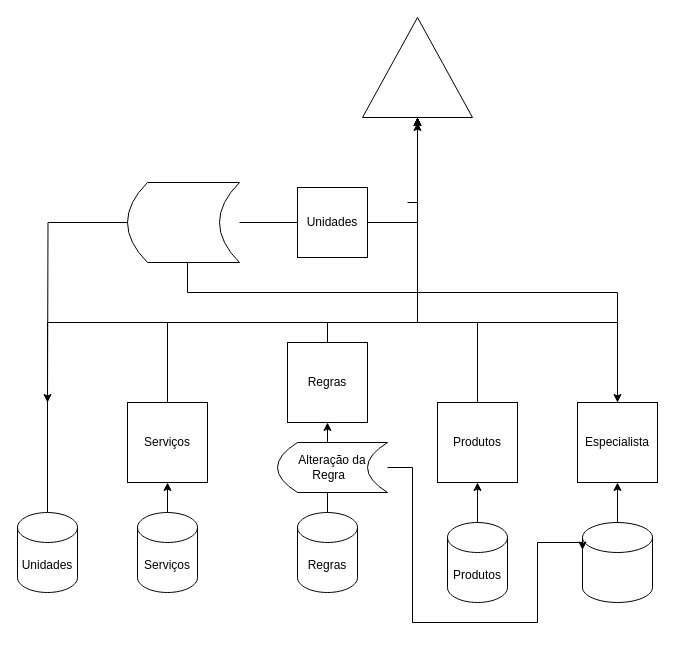
The diagram is 675 pixels wide and 648 high, and some of its shapes have lost their labels. The shapes that lost their labels are listed below. From the top down, each one's centre as x and y in pixels, then its label:
pixel 417 67: Federation
pixel 183 222: Alteração da Unidade
pixel 617 562: Especialistas
